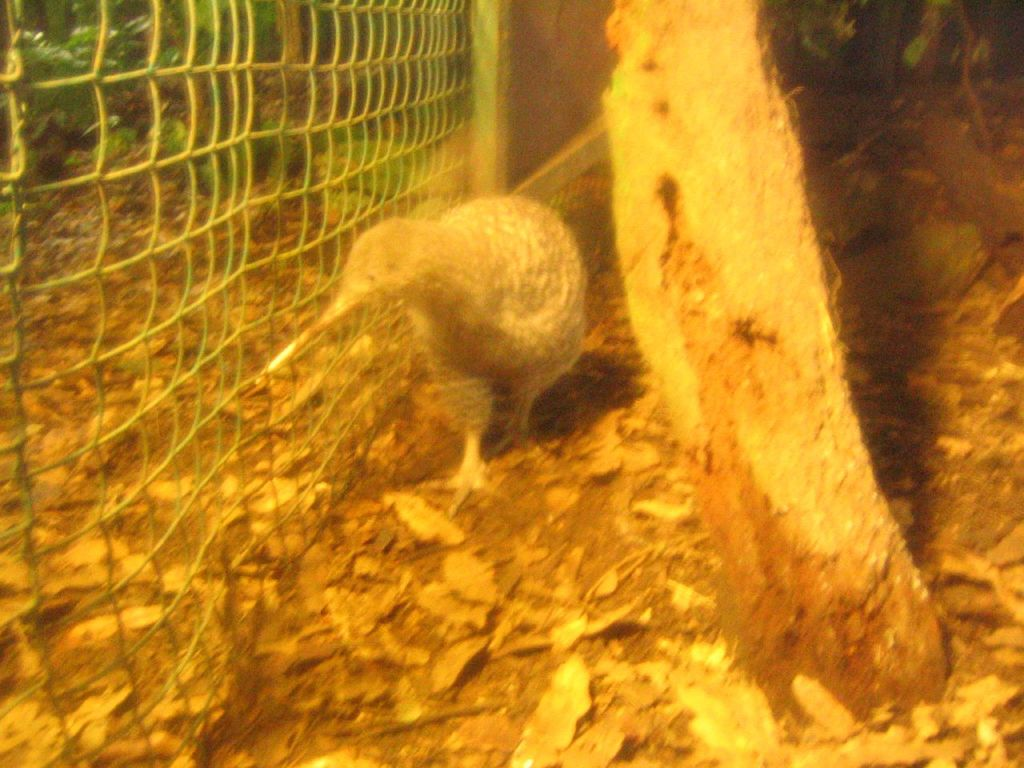Animal: (261, 191, 583, 524)
